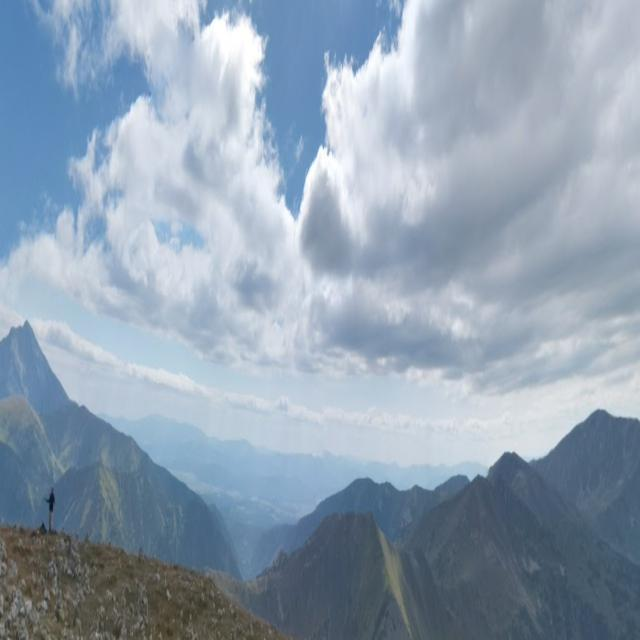Bystra: (574, 353, 627, 465)
Krivan: (3, 268, 50, 376)
Polska Tomanova: (304, 440, 432, 593)
Smreciny: (452, 424, 509, 526)
Velka Kamenista: (484, 396, 536, 508)
